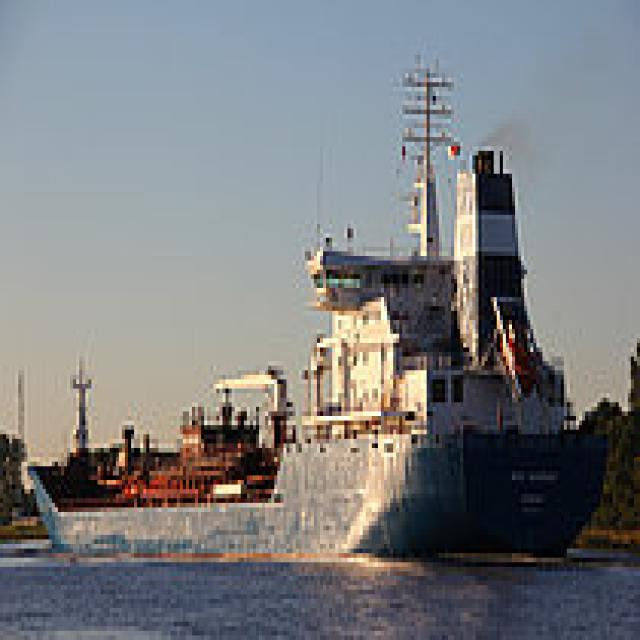Tanker: (22, 41, 610, 567)
